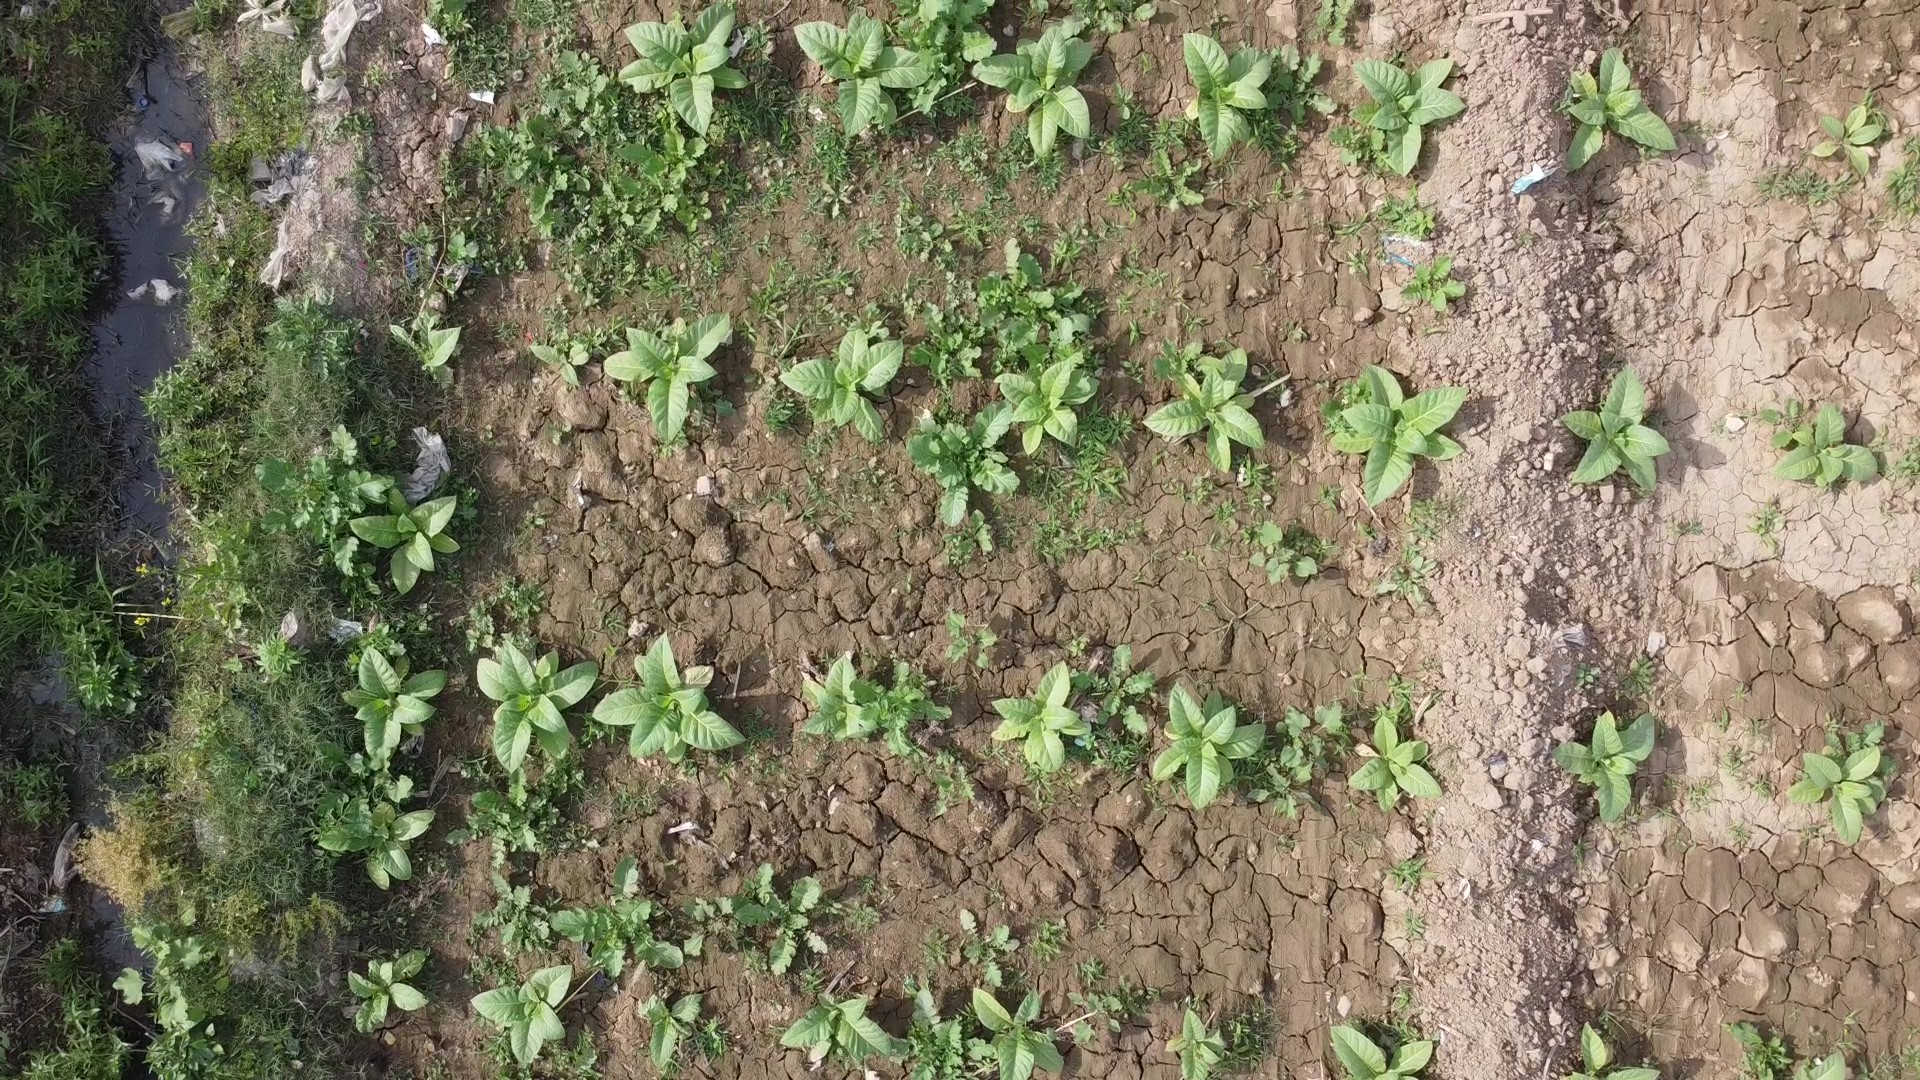weed: (593, 631, 746, 764), (1331, 363, 1468, 507), (618, 4, 750, 135), (604, 313, 731, 443), (476, 638, 598, 773), (793, 13, 927, 135), (971, 26, 1093, 157), (1143, 346, 1265, 473), (1349, 50, 1468, 176), (1153, 683, 1264, 809), (1566, 48, 1680, 169), (780, 328, 903, 439), (1562, 370, 1672, 490), (348, 488, 461, 594), (343, 646, 449, 758), (1184, 32, 1272, 162), (1550, 710, 1653, 821), (992, 661, 1090, 772), (470, 964, 572, 1063), (997, 359, 1100, 454), (1790, 745, 1884, 846), (1347, 715, 1442, 811), (342, 807, 448, 889), (1777, 404, 1877, 487), (973, 988, 1063, 1080), (780, 995, 891, 1061), (349, 949, 426, 1030), (803, 656, 879, 734), (1559, 1021, 1658, 1080), (1331, 1025, 1433, 1080), (1813, 105, 1881, 180), (649, 994, 703, 1065), (1167, 1012, 1223, 1080), (389, 324, 460, 370), (1811, 1052, 1850, 1080)
